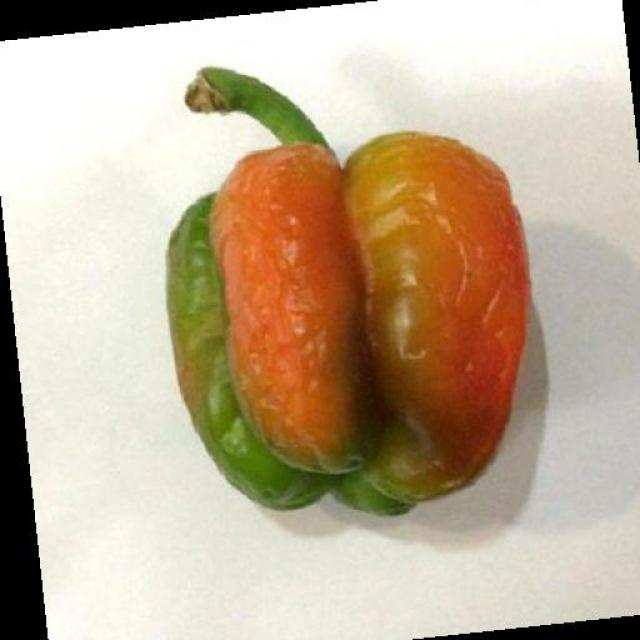Stale_Capsicum: (128, 76, 550, 530)
